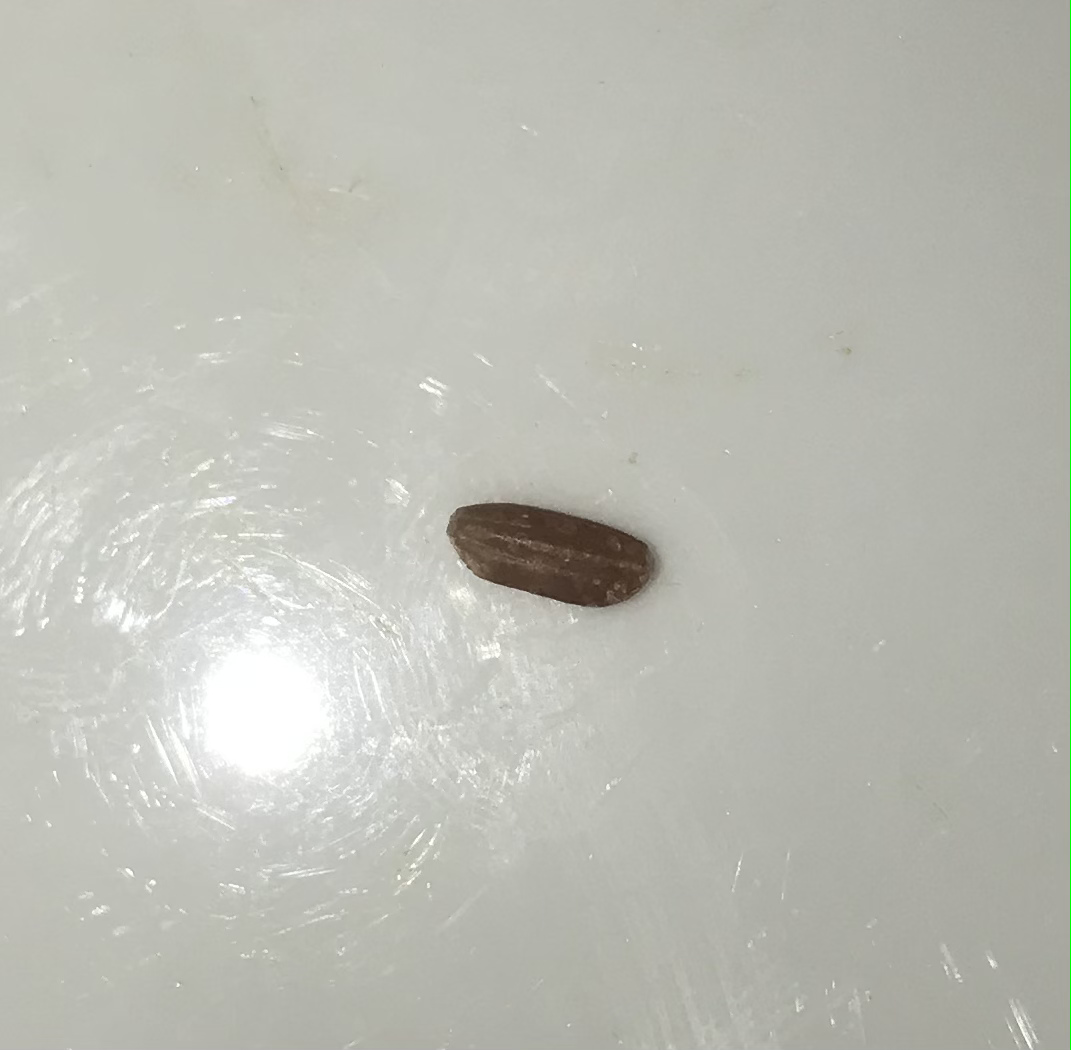Gao Lut Do: (443, 491, 660, 625)
